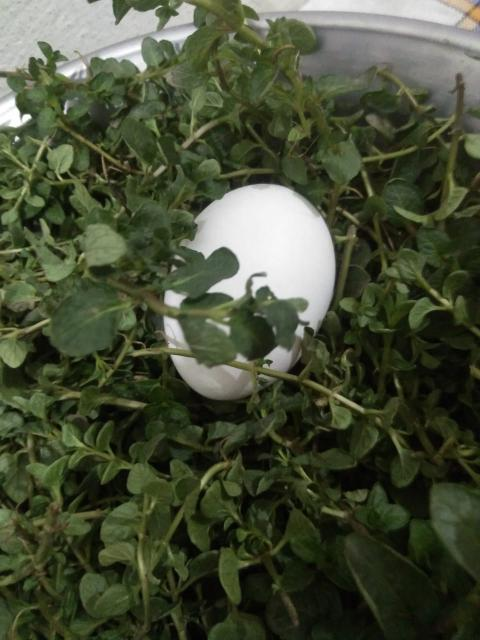Sano: (164, 182, 335, 401)
